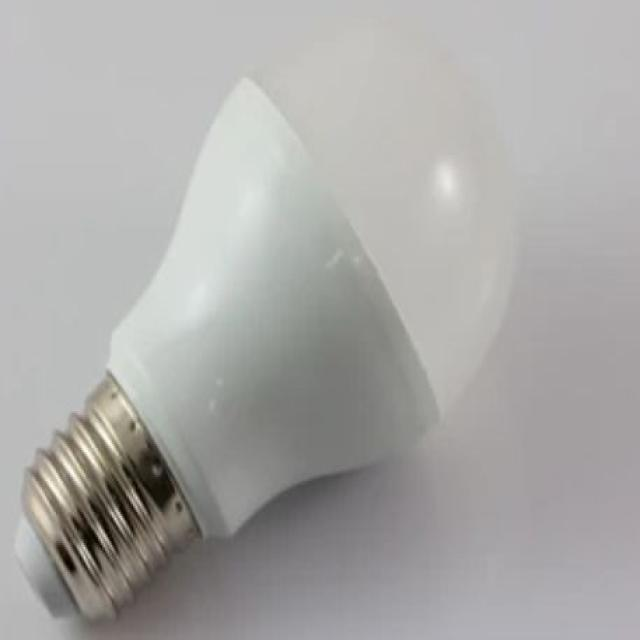electronic: (13, 72, 441, 622), (249, 17, 518, 421)
